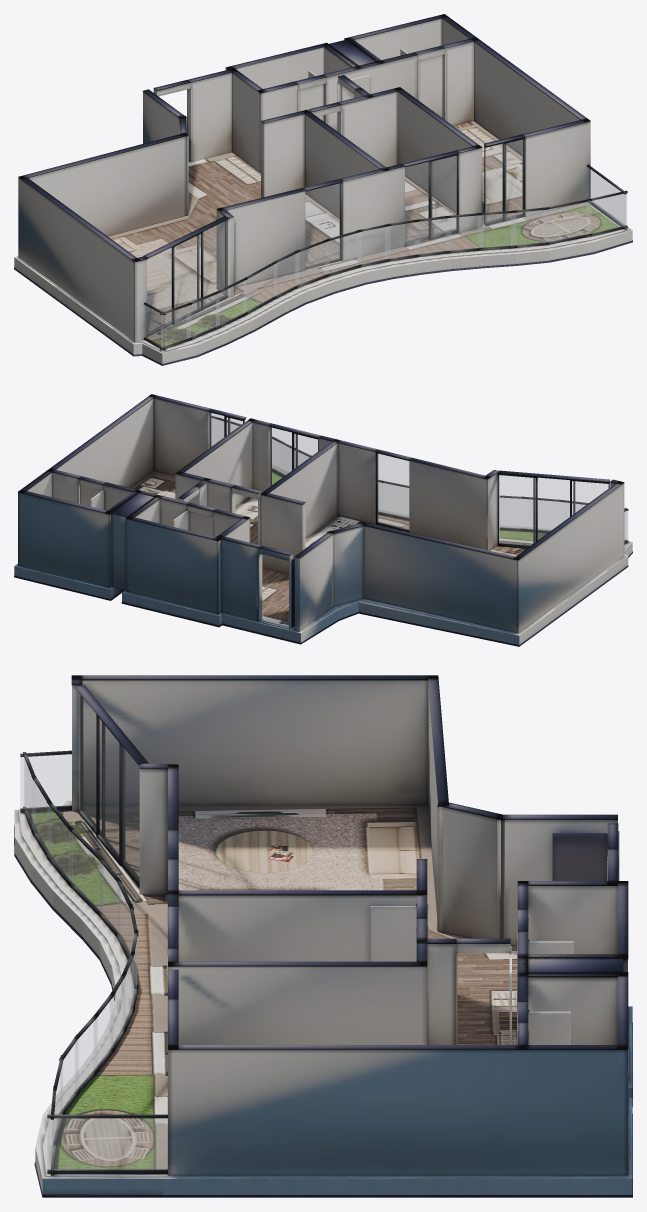
The picture shows the model from 3 angles, top to bottom: view 1: azimuth 30°, elevation 25°; view 2: azimuth 150°, elevation 25°; view 3: azimuth 270°, elevation 25°; orthographic projection. The views are drawn at different scales.
Visible parts, largest first — view 1: plan, glass0_m, glass2_m, glass3_m, glass1_m, railg2_m, railg1_m, railg4_m, railg5_m, railg3_m, railg9_m, railg6_m (+10 smaller); view 2: plan, glass0_m, glass1_m, glass2_m, railg13_m, railg9_m, railg12_m, glass3_m, railg4_m; view 3: plan, railg0_m, glass0_m, railg16_m, railg12_m, railg13_m, railg4_m, railg11_m, railg5_m, railg14_m, railg3_m, railg6_m (+1 smaller).
Part boxes in pixels (x1,y1,x2,y2): plan: [14, 14, 632, 365]; glass0_m: [147, 221, 226, 333]; glass2_m: [405, 156, 456, 242]; glass3_m: [485, 139, 522, 222]; glass1_m: [305, 183, 339, 266]; railg2_m: [543, 201, 590, 242]; railg1_m: [586, 194, 626, 234]; railg4_m: [478, 213, 516, 247]; railg5_m: [445, 215, 483, 250]; railg3_m: [511, 210, 548, 245]; railg9_m: [324, 232, 361, 274]; railg6_m: [415, 218, 451, 254]; plan: [14, 394, 632, 646]; glass0_m: [499, 475, 608, 545]; glass1_m: [377, 454, 408, 529]; glass2_m: [270, 427, 317, 485]; railg13_m: [527, 499, 558, 530]; railg9_m: [384, 483, 408, 517]; railg12_m: [500, 498, 521, 528]; glass3_m: [209, 413, 242, 447]; railg4_m: [276, 441, 291, 474]; plan: [14, 675, 632, 1197]; railg0_m: [47, 1118, 167, 1169]; glass0_m: [79, 693, 139, 881]; railg16_m: [20, 754, 71, 808]; railg12_m: [69, 830, 103, 914]; railg13_m: [48, 805, 72, 883]; railg4_m: [75, 1018, 97, 1092]; railg11_m: [100, 862, 120, 935]; railg5_m: [94, 997, 113, 1071]; railg14_m: [32, 779, 51, 857]; railg3_m: [61, 1039, 78, 1112]; railg6_m: [110, 978, 124, 1050].
Bounding box in the file's own units: 14.53 × 2.62 × 10.05.
Materials: 2 (1 with a texture image).
